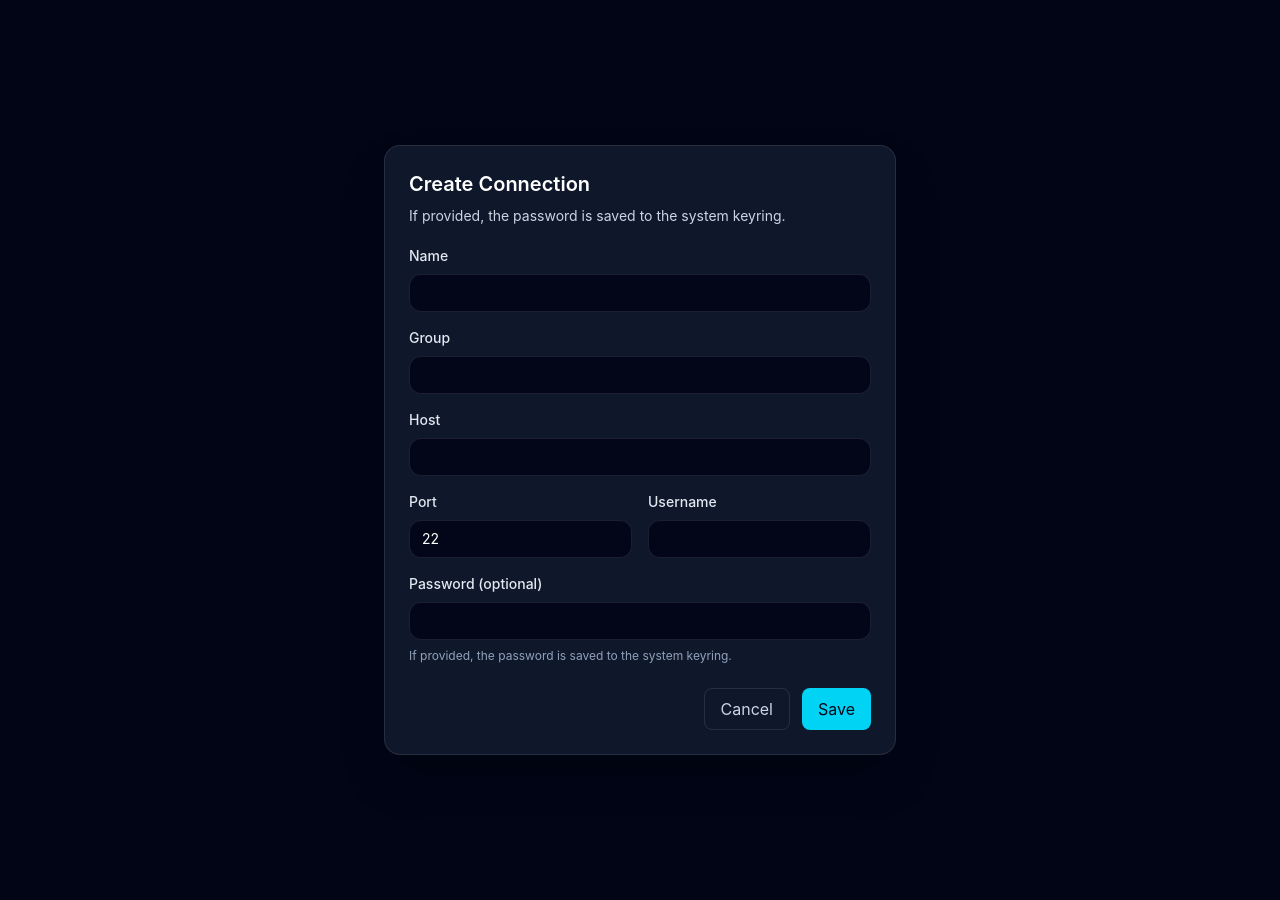
ConnectionFormDialog › shows existing groups as selectable suggestions
Click the dropdown labelled "Group" at (640, 375), box top-left (409, 356), bottom-right (871, 394)
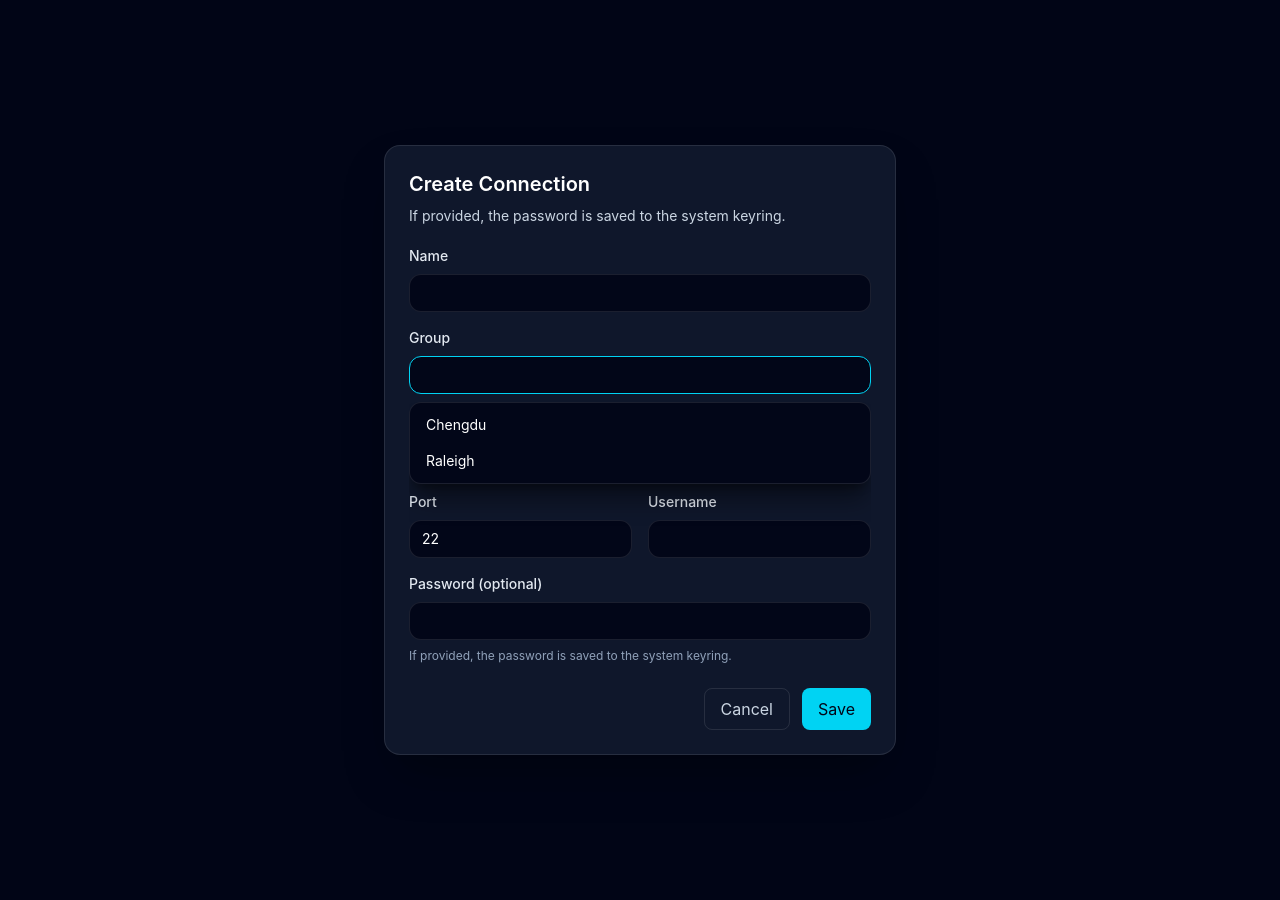
Expected: the option "Chengdu" is shown, top-left (414, 407), bottom-right (866, 443)
Expected: the option "Raleigh" is shown, top-left (414, 443), bottom-right (866, 479)
